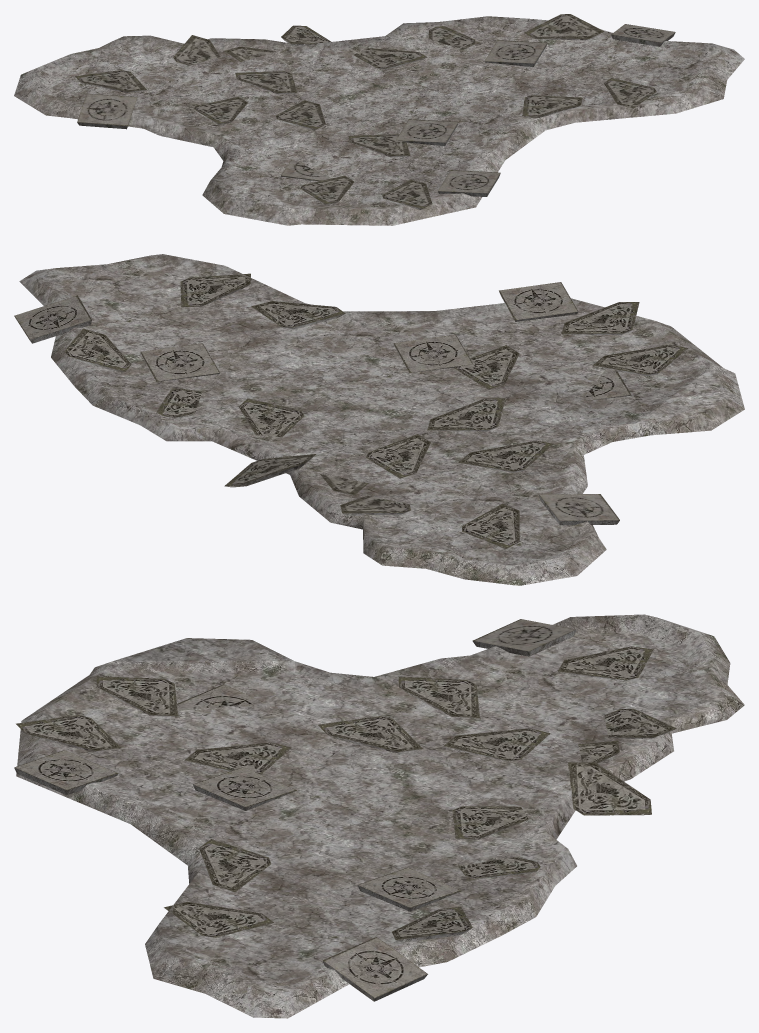
The model's file is eso_ss1_groundruins2-transformed.glb.
3 views of the same model, one above another, from view 1: azimuth 30°, elevation 25°; view 2: azimuth 150°, elevation 25°; view 3: azimuth 270°, elevation 25° (orthographic). The views are drawn at different scales.
Visible parts, largest first — view 1: default; view 2: default; view 3: default.
Part boxes in pixels (x1,y1,x2,y2): default: [14, 14, 744, 225]; default: [14, 254, 744, 585]; default: [14, 614, 744, 1018].
Size of the model in its own units: 13.01 by 0.3959 by 10.03.
Materials: 2 (2 with a texture image).
